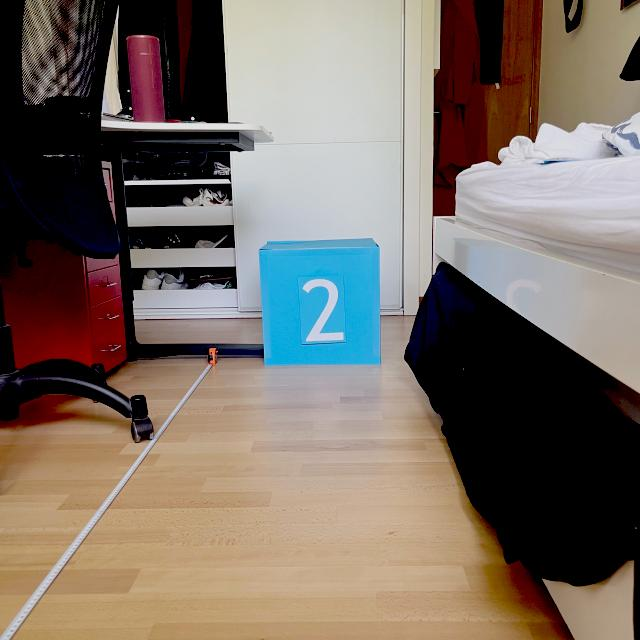box: (254, 234, 385, 368)
